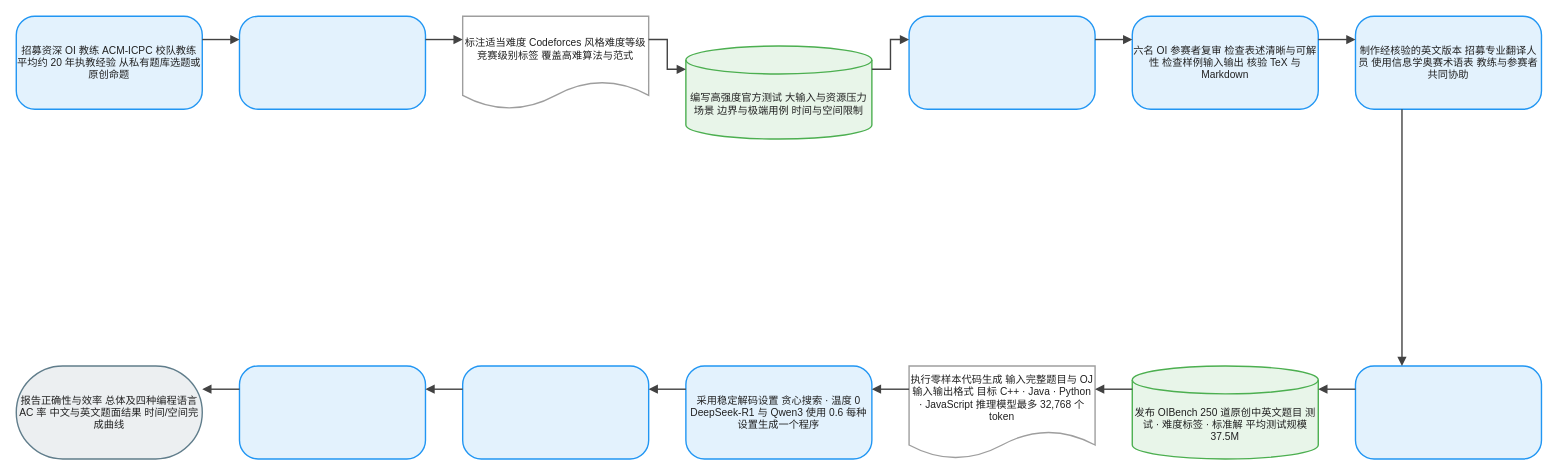
Some shapes in this 1559 by 476 pixel diagram are drawn without their labels. The centre of each missing label's shape, as x and y in pixels:
"在 Docker 中编译执行 C++17 · g++ 11.3 · -O2 固定 Java · Python · Node 版本 监控运行时间与内存" goes at (555,412).
"应用全对判定 运行某题全部官方测试 仅全部通过才判该题正确 按题计算 AC 通过率" goes at (332,412).
"执行原创性与保密要求 题目必须从未公开 拒绝仅改数字或表述的改编 防止直接检索命中" goes at (332,62).
"提供 C++ 标准解 执行全部官方测试 确认题目可解 验证测试用例正确性" goes at (1001,62).
"检查发布前数据污染 逐题通过搜索引擎检索 确认不能直接查到 截至 2025 年 5 月发布时" goes at (1448,412).
